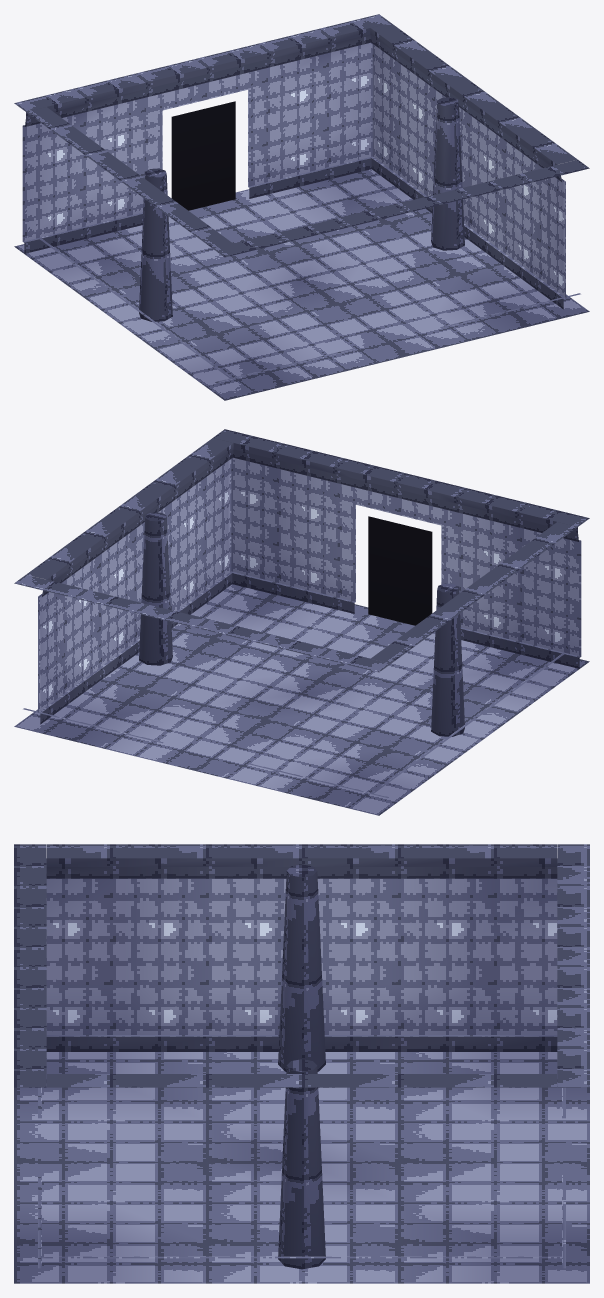
File: cyroom.lobby.glb
3 views of the same model, one above another, from view 1: azimuth 30°, elevation 25°; view 2: azimuth 150°, elevation 25°; view 3: azimuth 270°, elevation 25° (orthographic). The views are drawn at different scales.
Parts seen in each view (by area): view 1: kit_shell_walls, kit_shell_floor, kit_trim, kit_card_lights; view 2: kit_shell_walls, kit_shell_floor, kit_trim, kit_card_lights; view 3: kit_shell_walls, kit_shell_floor, kit_trim.
Boxes of the visible parts, left/top/right/bottom form: kit_shell_walls: left=14, top=14, right=589, bottom=383; kit_shell_floor: left=14, top=169, right=589, bottom=400; kit_trim: left=139, top=97, right=464, bottom=321; kit_card_lights: left=171, top=101, right=235, bottom=210; kit_shell_walls: left=14, top=429, right=589, bottom=798; kit_shell_floor: left=14, top=584, right=589, bottom=815; kit_trim: left=139, top=512, right=464, bottom=736; kit_card_lights: left=368, top=516, right=432, bottom=625; kit_shell_walls: left=14, top=844, right=589, bottom=1268; kit_shell_floor: left=14, top=1052, right=589, bottom=1283; kit_trim: left=278, top=864, right=325, bottom=1269.
Bounding box in the file's own units: 12 × 4.5 × 12.
6 materials, 6 textured.
